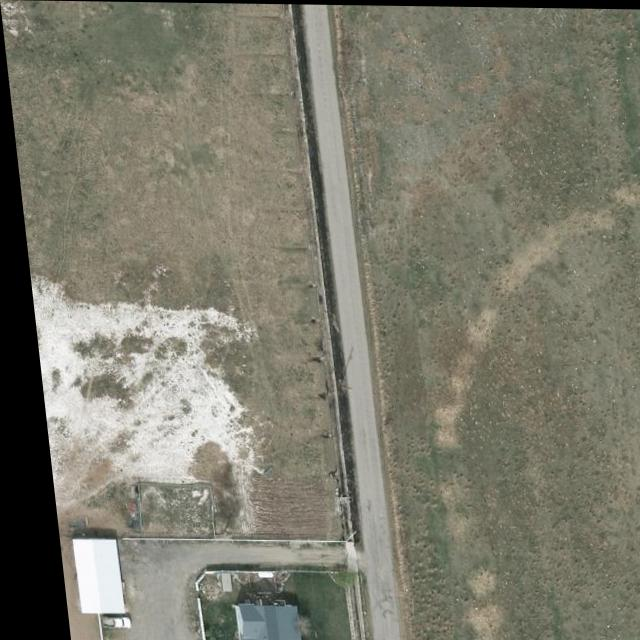vehicle: (88, 616, 117, 630)
